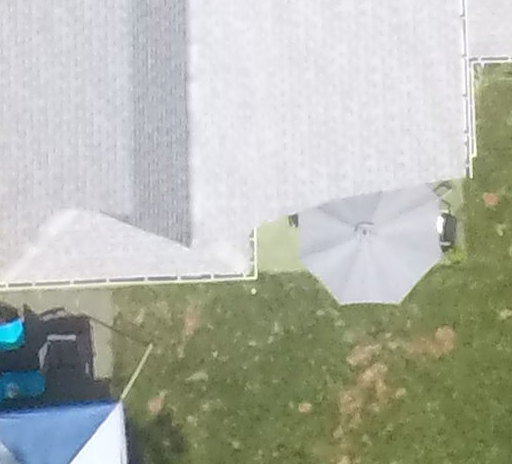umbrella: (294, 172, 449, 316)
